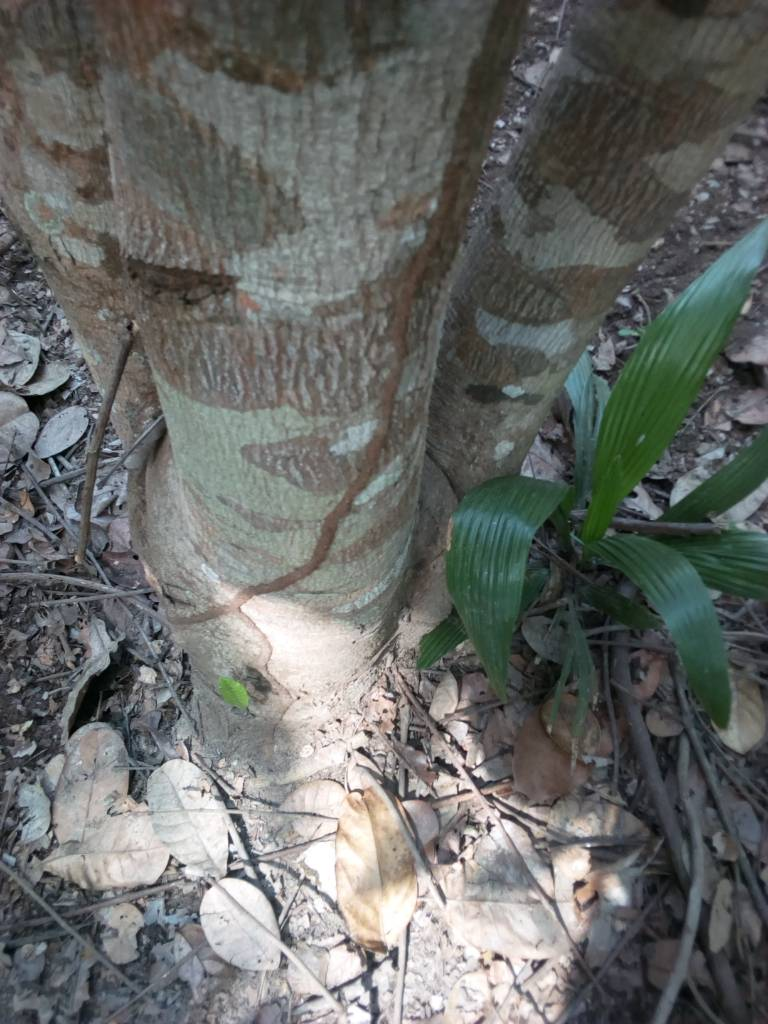Termites: (299, 52, 496, 571)
